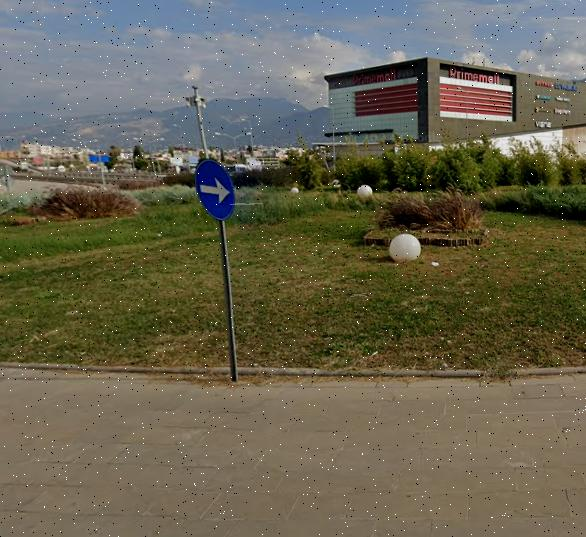turnright: (195, 161, 238, 222)
